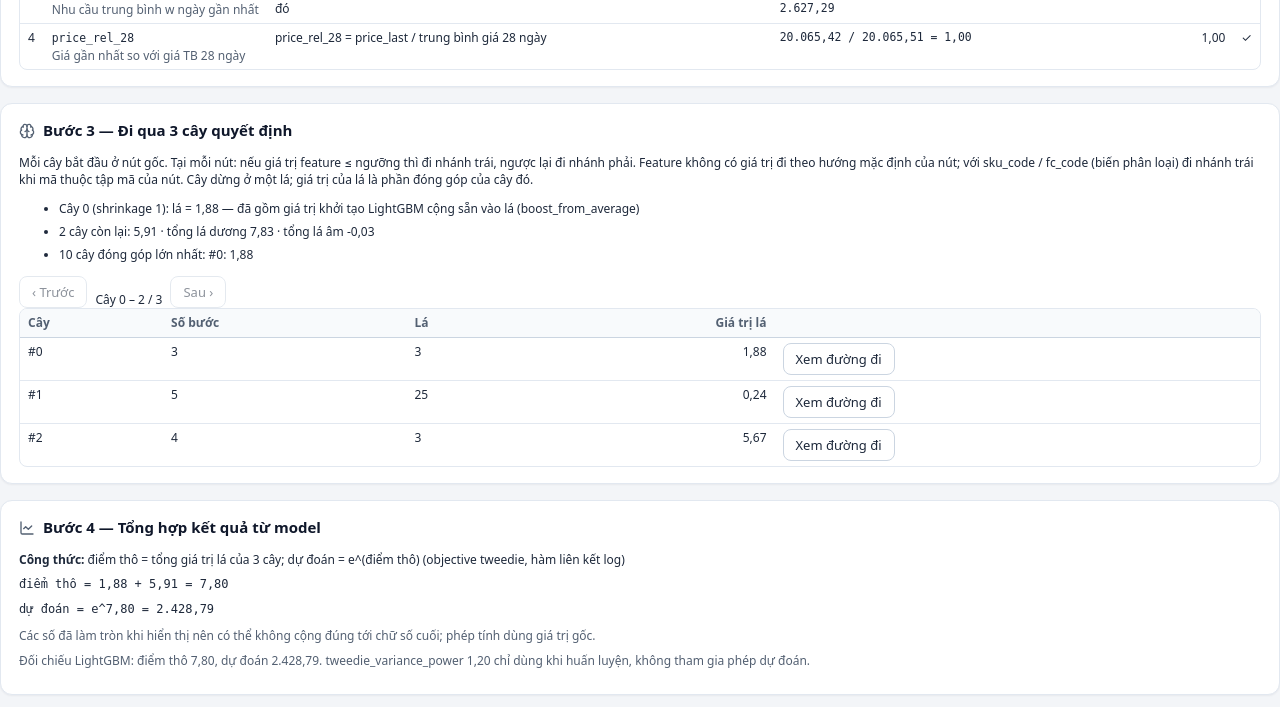
Test: the page › opens the path of a tree: feature, threshold, real value and branch
(page scrolled)
Expected: the row "#0 3 3 1,88 Xem đường đi" is shown, [20,338,1260,381]
Click the button with aria-label "tree-0": [839, 359] box [782,343,895,375]
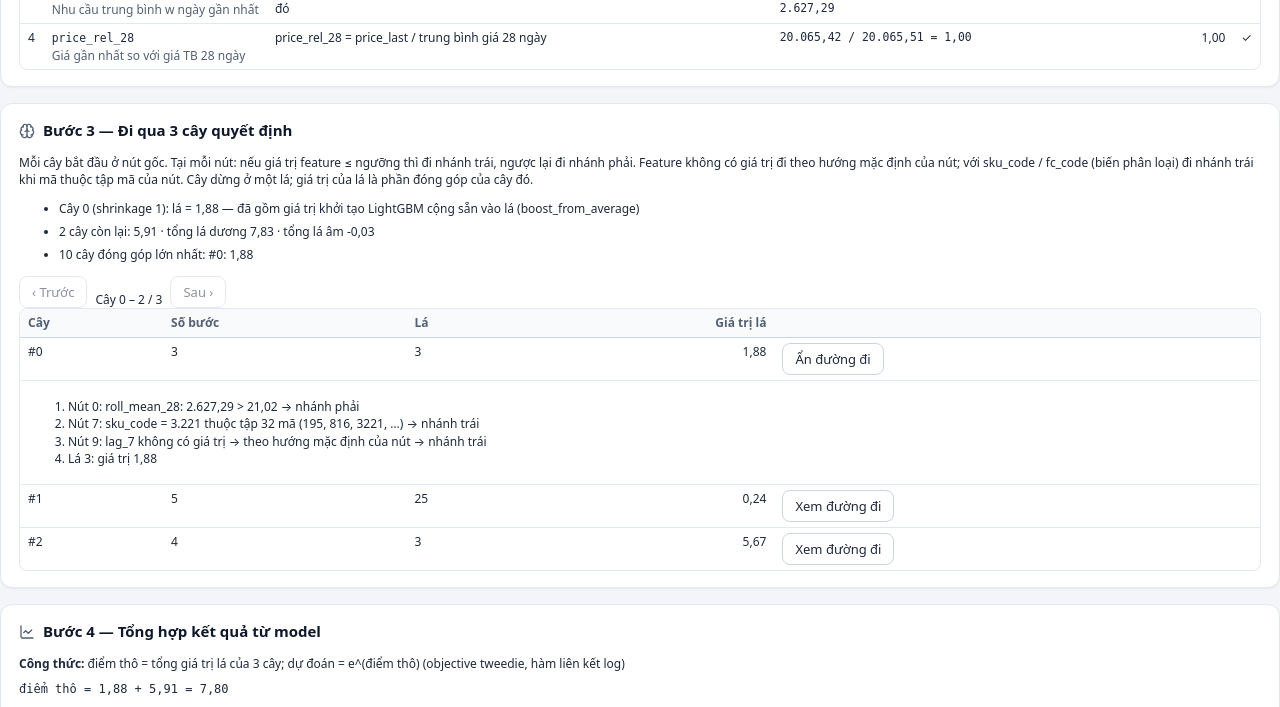
Now the list with test id "fexp-path-0" shows "roll_mean_28: 2.627,29 > 21,02 → nhánh phải", box [105,398,360,415]
Now the list with test id "fexp-path-0" shows "sku_code = 3.221 thuộc tập 32 mã (195, 816, 3221, …) → nhánh trái", box [105,415,479,432]
Now the list with test id "fexp-path-0" shows "lag_7 không có giá trị → theo hướng mặc định của nút → nhánh trái", box [105,433,486,450]
